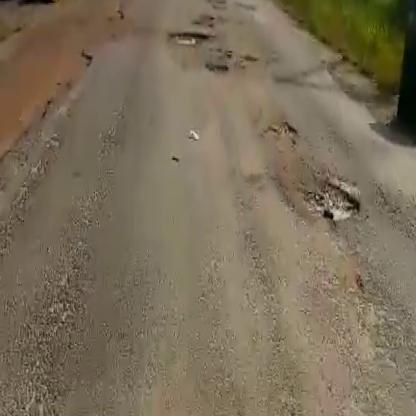pothole: (292, 172, 367, 228), (164, 26, 210, 44), (200, 59, 229, 77)
